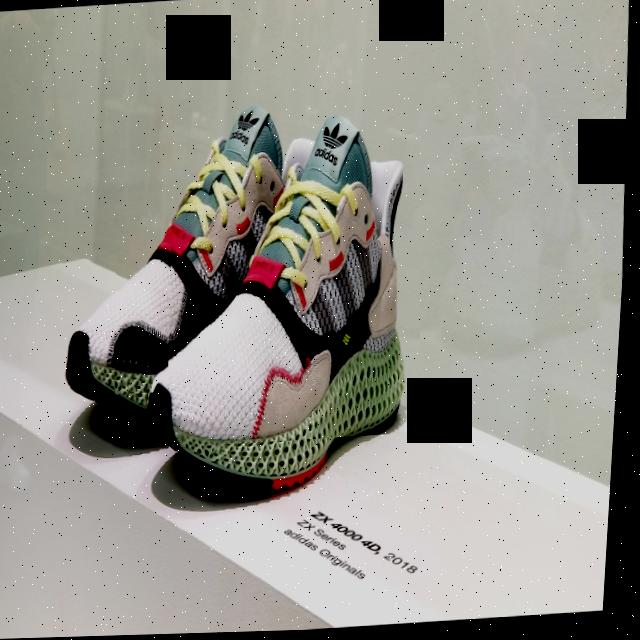shoe: (159, 86, 439, 450), (38, 71, 286, 400)
